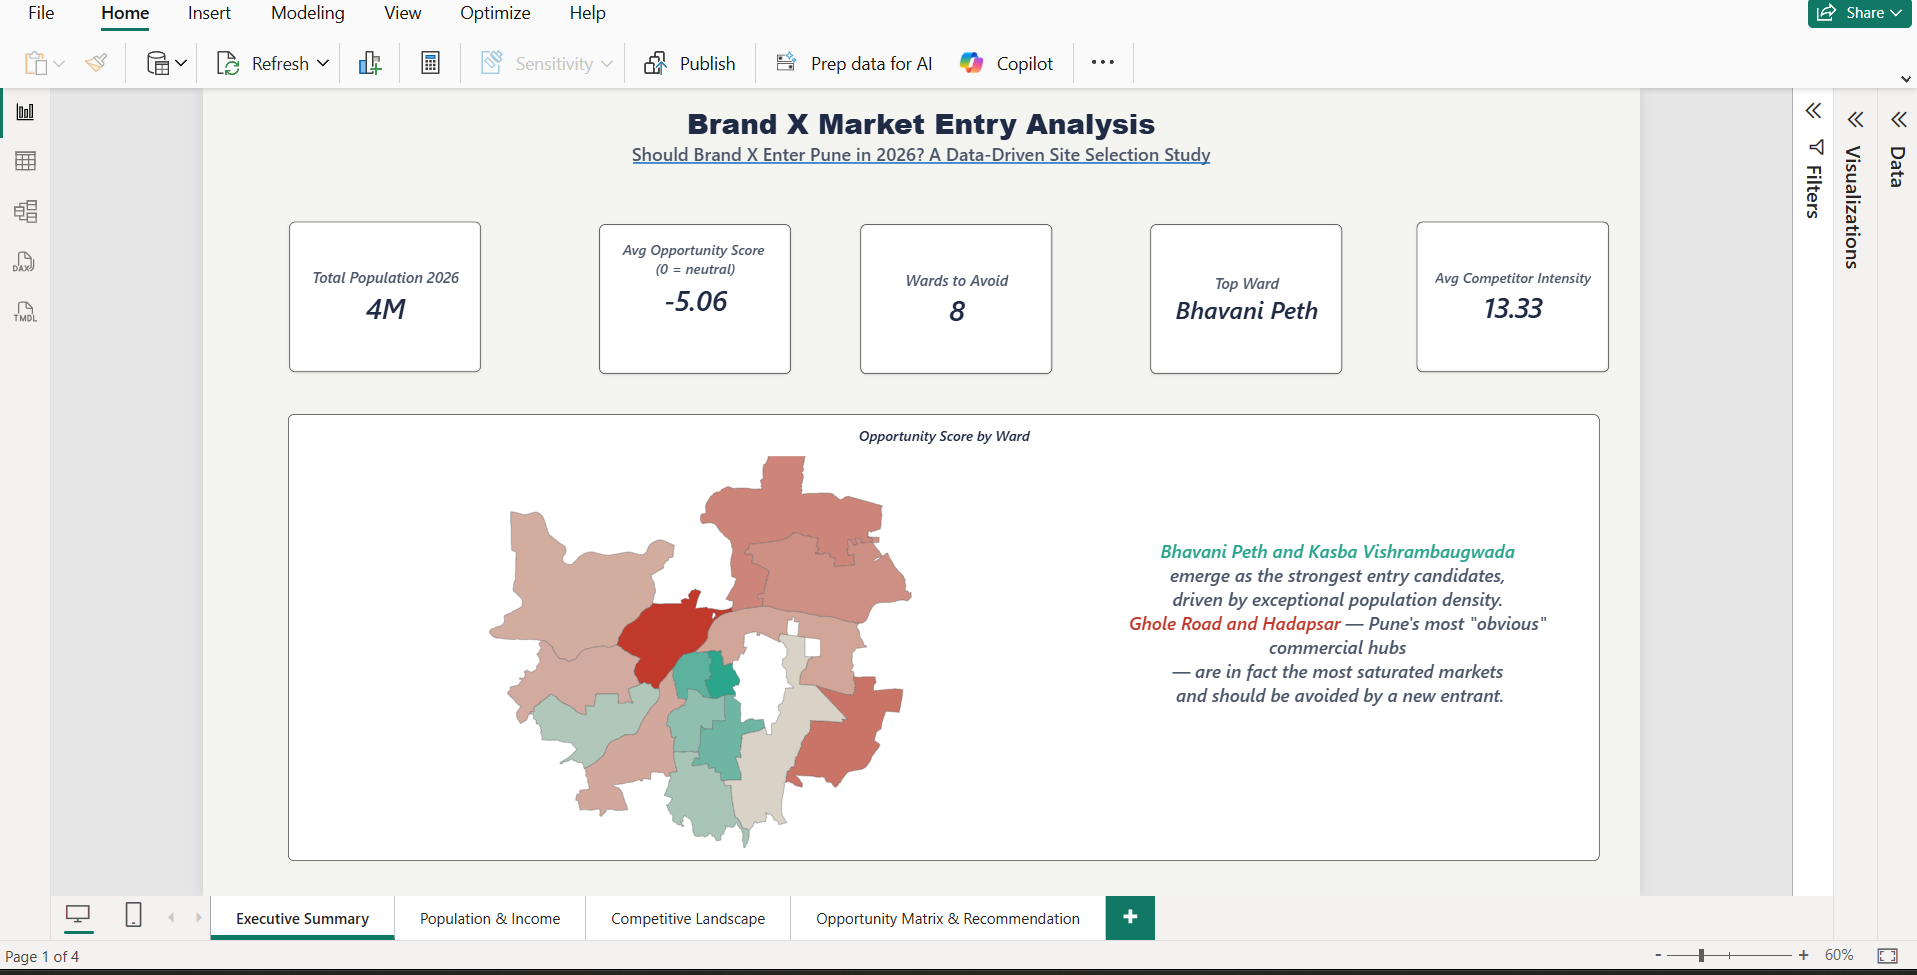

The page's visual inventory and layout, read from the dashboard file:
{"tool":"powerbi","page":{"name":"Executive Summary","canvas":[1920,1080],"ordinal":0},"visuals":[{"type":"textbox","box":[528.4,19.9,863.2,112.2],"z":0},{"type":"shape","box":[573.7,68.8,770.9,63.3],"z":1000},{"type":"cardVisual","fields":{"Data":["pune_market_entry_final.Total Population 2026"]},"box":[114.7,179.5,256,200.9],"z":2000},{"type":"cardVisual","fields":{"Data":["pune_market_entry_final.Avg Opportunity Score"]},"box":[529.1,181.3,256,200],"z":3000},{"type":"cardVisual","fields":{"Data":["pune_market_entry_final.Wards to Avoid"]},"box":[878.8,181.3,256,200],"z":4000},{"type":"cardVisual","fields":{"Data":["pune_market_entry_final.Top Ward"]},"box":[1265.4,181.3,256,200],"z":5000},{"type":"cardVisual","fields":{"Data":["pune_market_entry_final.Avg Competitor Intensity"]},"box":[1620.7,179.5,257,200.9],"z":6000},{"type":"textbox","box":[551.3,203.5,213.5,61.5],"z":7000},{"type":"shapeMap","title":"Opportunity Score by Ward","fields":{"Category":["pune_market_entry_final.Ward Name"],"Value":["Sum(pune_market_entry_final.opportunity_score)"]},"box":[114,436.1,1751.8,597.2],"z":8000},{"type":"textbox","box":[1172.2,566.1,693.8,366.3],"z":9000}]}

Visuals, with their boxes on the page's 1920x1080 design canvas (x1, y1, x2, y2). These are canvas units, not pixel positions in the 1917x975 screenshot, which may show the page scaled, cropped or inside an application window:
textbox: 528, 20, 1392, 132
shape: 574, 69, 1345, 132
cardVisual - pune_market_entry_final.Total Population 2026: 115, 180, 371, 380
cardVisual - pune_market_entry_final.Avg Opportunity Score: 529, 181, 785, 381
cardVisual - pune_market_entry_final.Wards to Avoid: 879, 181, 1135, 381
cardVisual - pune_market_entry_final.Top Ward: 1265, 181, 1521, 381
cardVisual - pune_market_entry_final.Avg Competitor Intensity: 1621, 180, 1878, 380
textbox: 551, 204, 765, 265
"Opportunity Score by Ward" shapeMap: 114, 436, 1866, 1033
textbox: 1172, 566, 1866, 932
